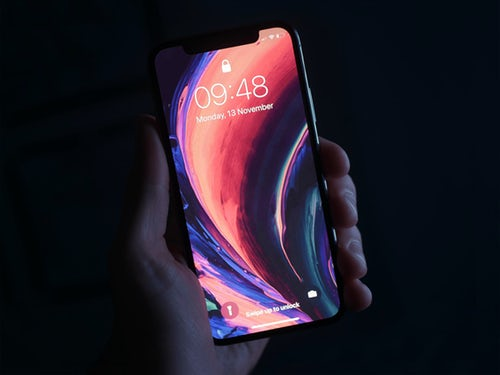phone: (143, 25, 349, 346)
